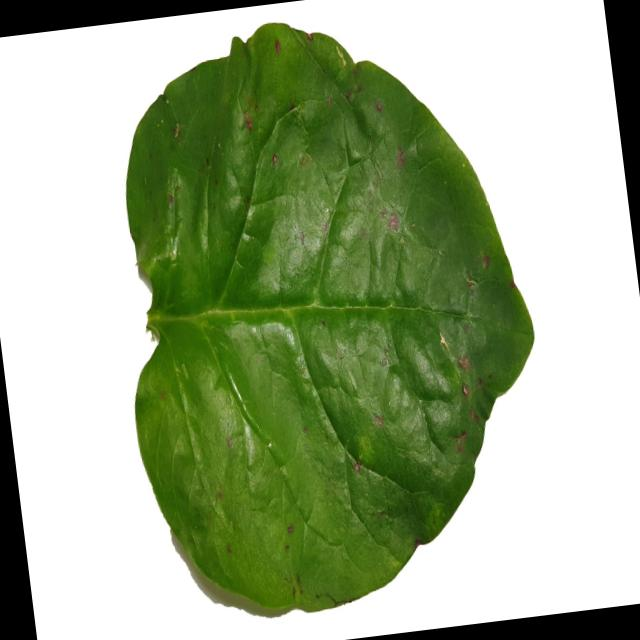Medicinal-Basale: (87, 0, 565, 628)
